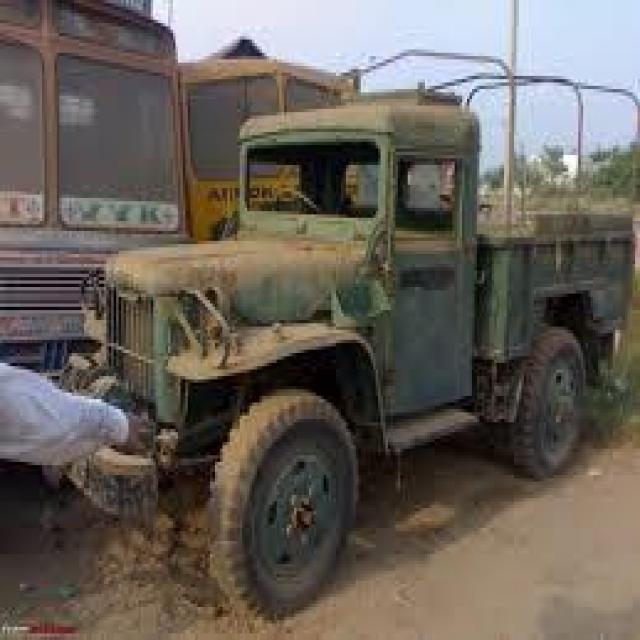Tanks: (24, 38, 567, 625)
